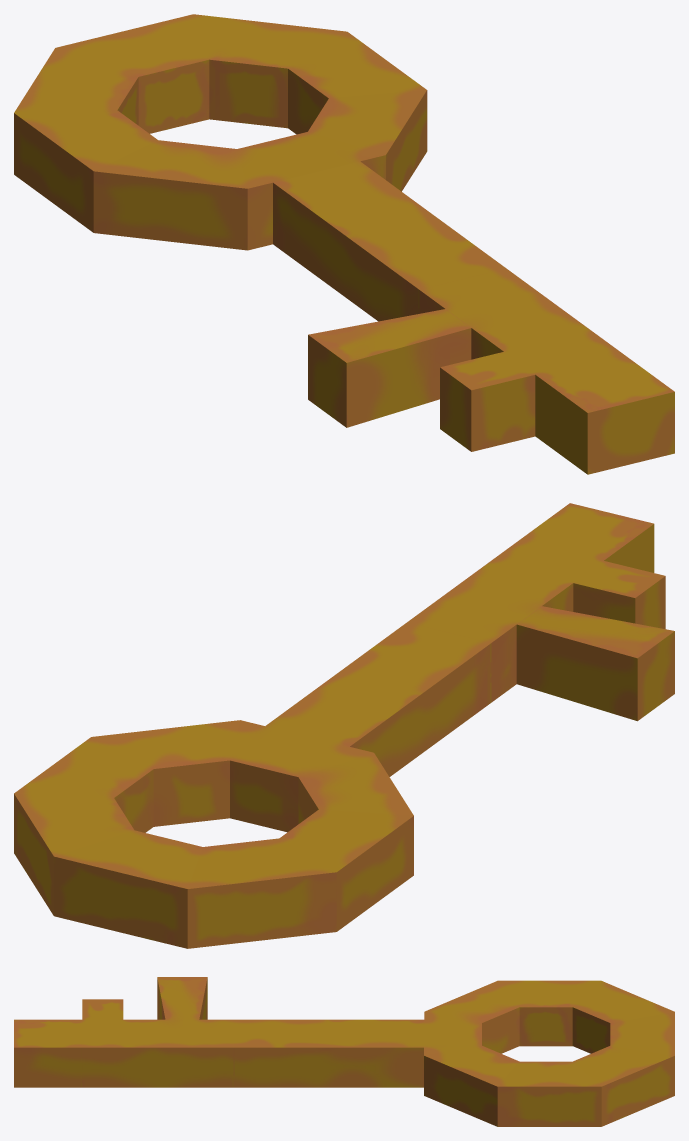
The model's file is key.glb.
The picture shows the model from 3 angles, top to bottom: view 1: azimuth 30°, elevation 25°; view 2: azimuth 150°, elevation 25°; view 3: azimuth 270°, elevation 25°; orthographic projection. The views are drawn at different scales.
Parts seen in each view (by area): view 1: Object_2; view 2: Object_2; view 3: Object_2.
Boxes of the visible parts, bbox=[...] form: Object_2: bbox=[14, 14, 674, 474]; Object_2: bbox=[14, 503, 674, 948]; Object_2: bbox=[14, 977, 674, 1126].
Size of the model in its own units: 0.0272 by 0.00495 by 0.07.
1 material, 1 textured.
